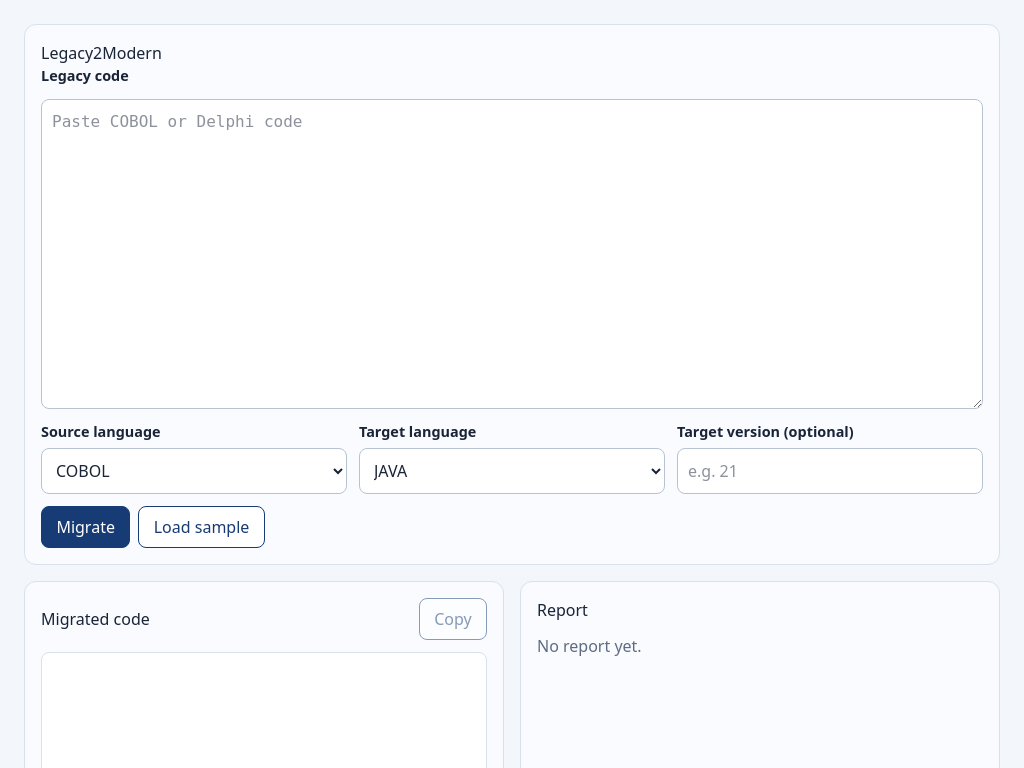
Test case: Legacy2ModernPageComponent › fills form, runs migrate, and renders migrated code with report
This screenshot has width=1024, height=768.
Type "IDENTIFICATION DIVISION." into the text box with test id "legacy-code-input" at (512,254), box left=41, top=99, right=983, bottom=409
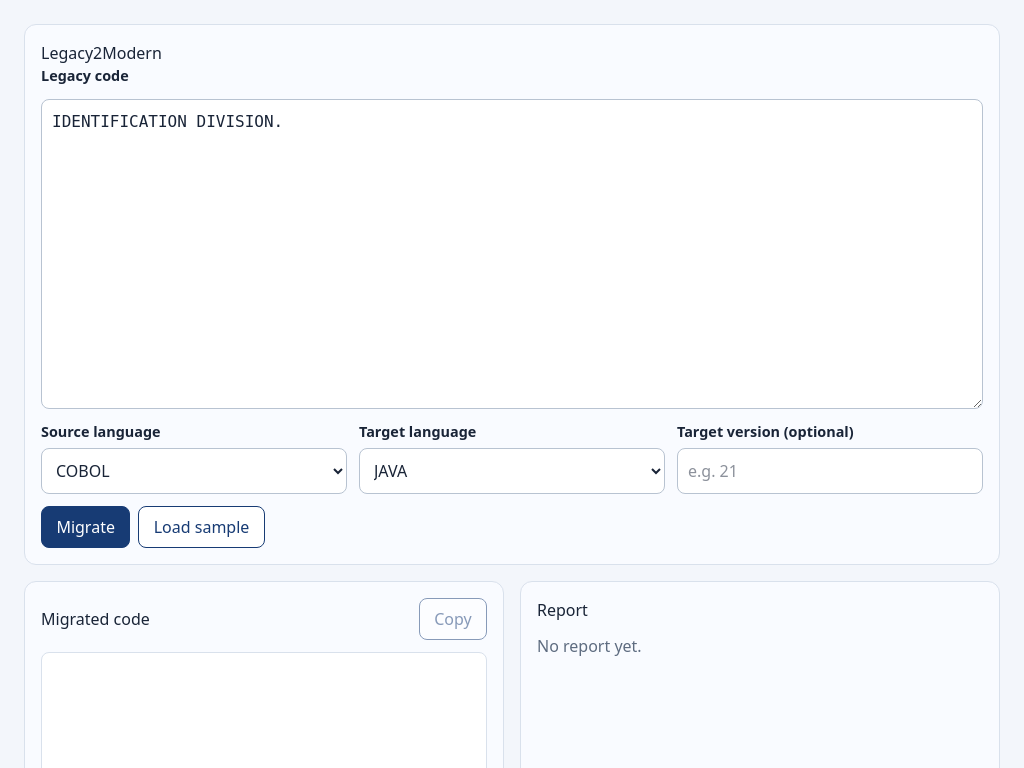
Select "COBOL" in the dropdown with test id "source-language" at (194,471), box left=41, top=448, right=347, bottom=494
Select "JAVA" in the dropdown with test id "target-language" at (512,471), box left=359, top=448, right=665, bottom=494
Click the button with test id "migrate-btn" at (86,527), box left=41, top=506, right=130, bottom=548
(page scrolled)
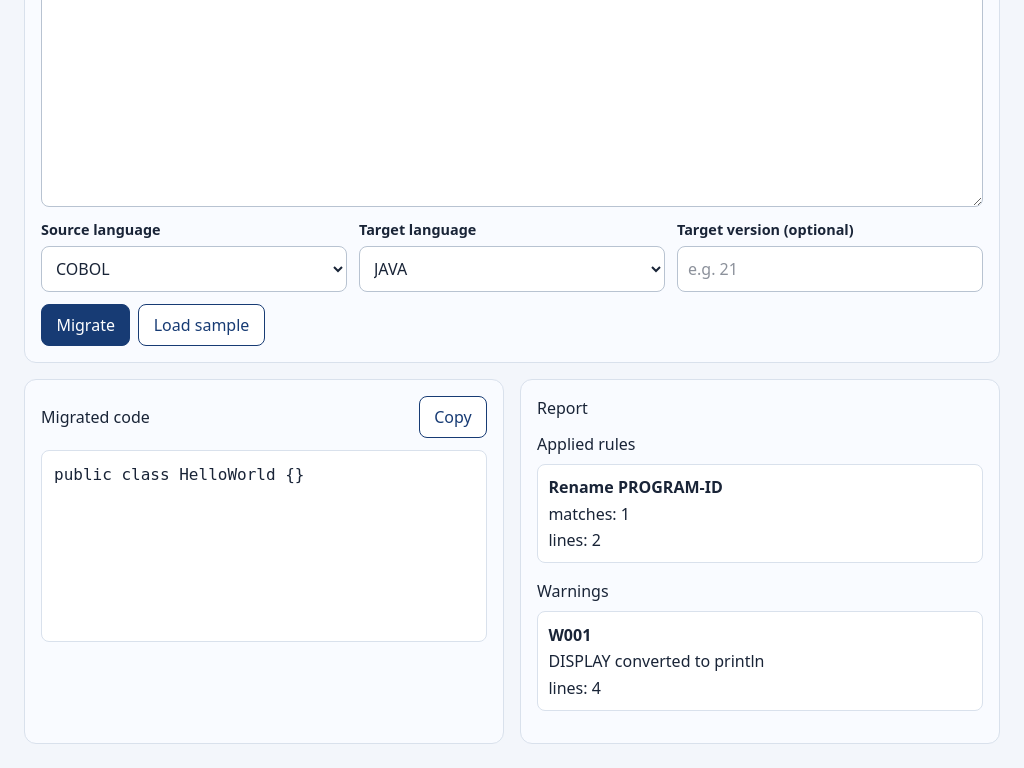
Expected: the text with test id "migrated-code" reads "public class HelloWorld {}", left=54, top=465, right=304, bottom=484
Expected: the element with test id "report" shows "Rename PROGRAM-ID", left=548, top=476, right=723, bottom=498
Expected: the element with test id "report" shows "W001", left=548, top=624, right=591, bottom=646
